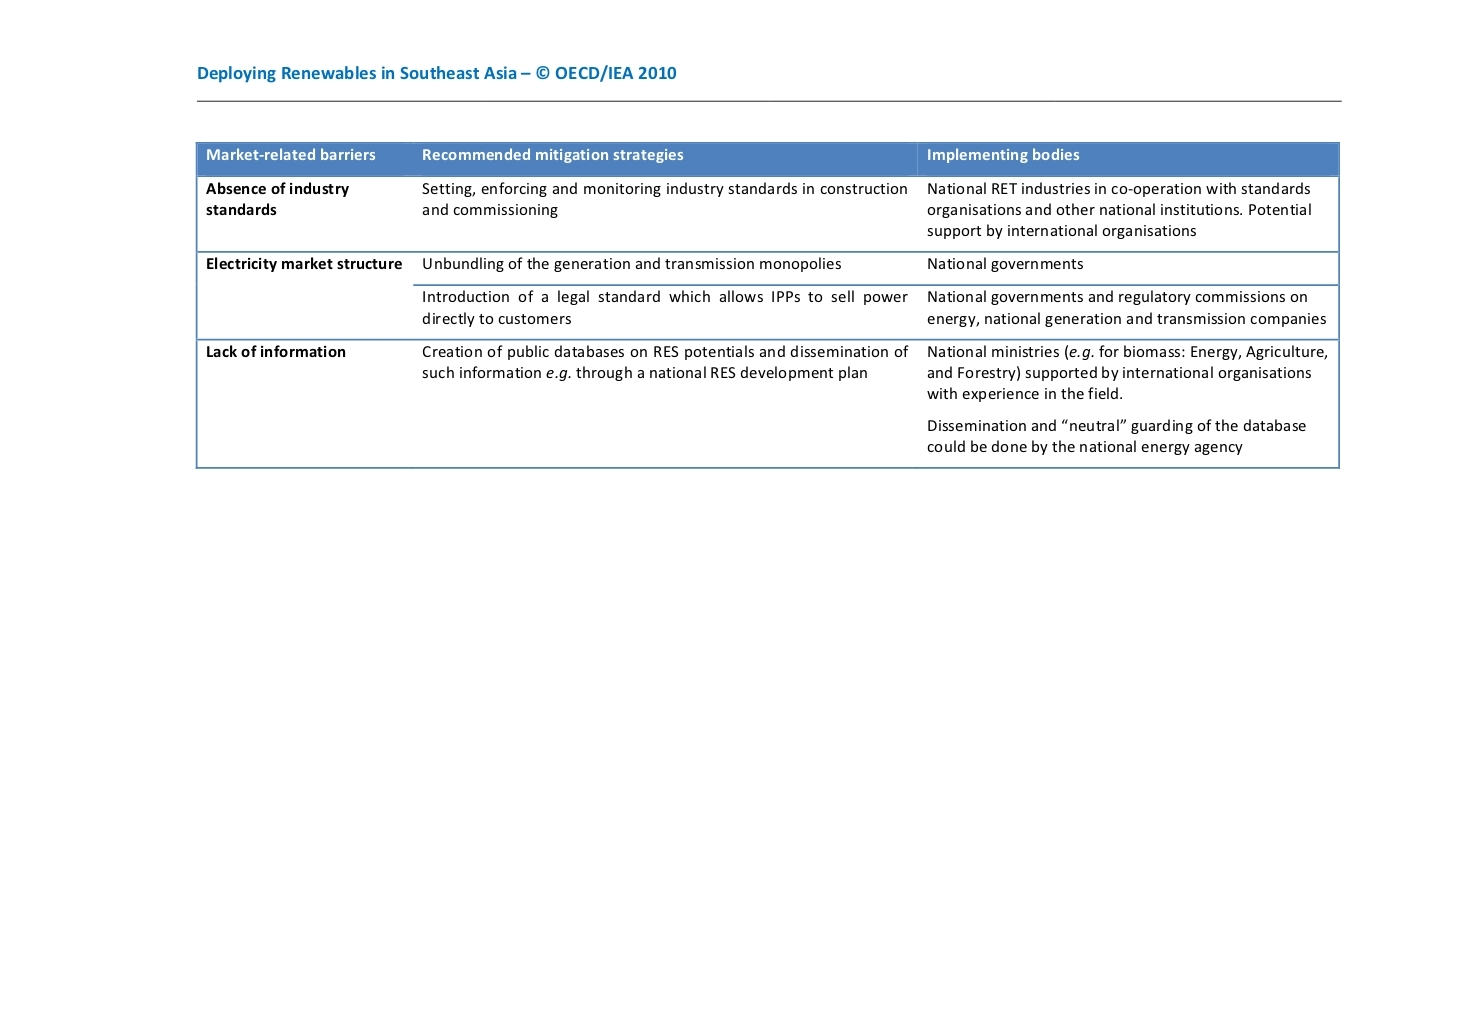Table: (195, 141, 1340, 469)
